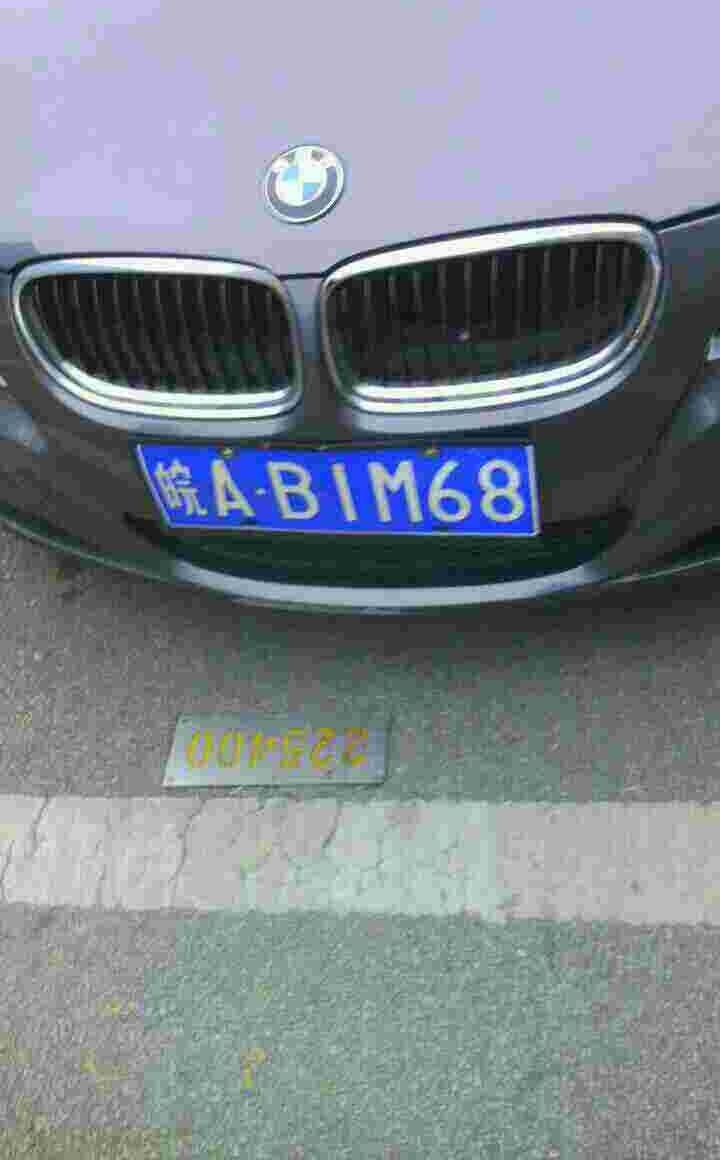license_plate: (152, 444, 550, 542)
